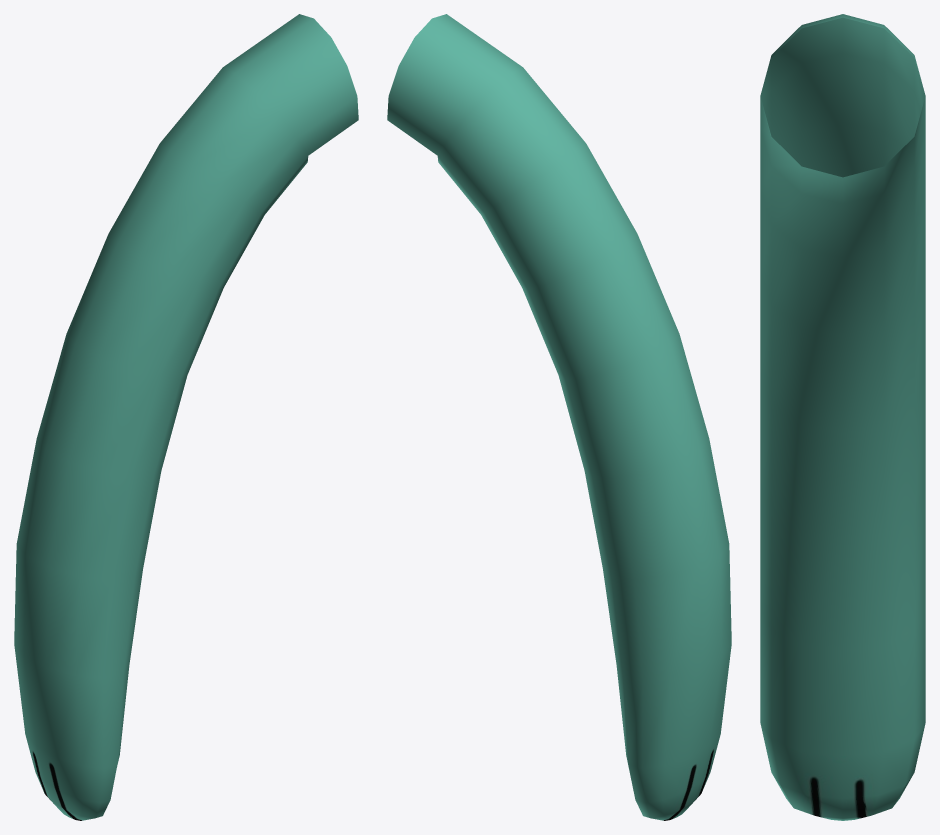
File: bimo_bd.obj
3 views of the same model, side by side, from view 1: azimuth 30°, elevation 25°; view 2: azimuth 150°, elevation 25°; view 3: azimuth 270°, elevation 25° (orthographic). The views are drawn at different scales.
Visible parts, largest first — view 1: brazoDerecho; view 2: brazoDerecho; view 3: brazoDerecho.
Boxes of the visible parts, x1,y1,x2,y2 form: brazoDerecho: [14, 14, 358, 820]; brazoDerecho: [387, 14, 731, 820]; brazoDerecho: [760, 14, 925, 820].
Bounding box in the file's own units: 0.662 × 1.52 × 0.24.
